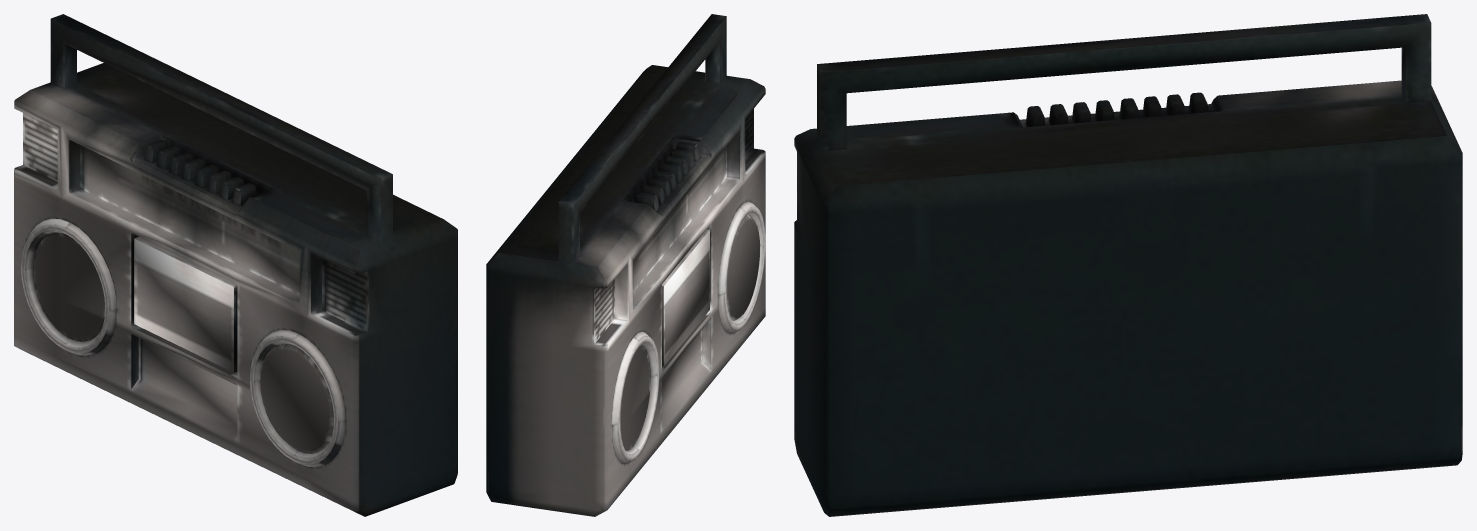
The model's file is radio.dae.
3 views of the same model, side by side, from view 1: azimuth 30°, elevation 25°; view 2: azimuth 150°, elevation 25°; view 3: azimuth 270°, elevation 25° (orthographic). The views are drawn at different scales.
Parts seen in each view (by area): view 1: RadioLP; view 2: RadioLP; view 3: RadioLP.
Part boxes in pixels (x1,y1,x2,y2): RadioLP: (14, 14, 457, 516); RadioLP: (486, 14, 765, 516); RadioLP: (794, 14, 1462, 516).
Size of the model in its own units: 0.2133 by 0.487 by 0.3262.
1 material, 1 textured.
